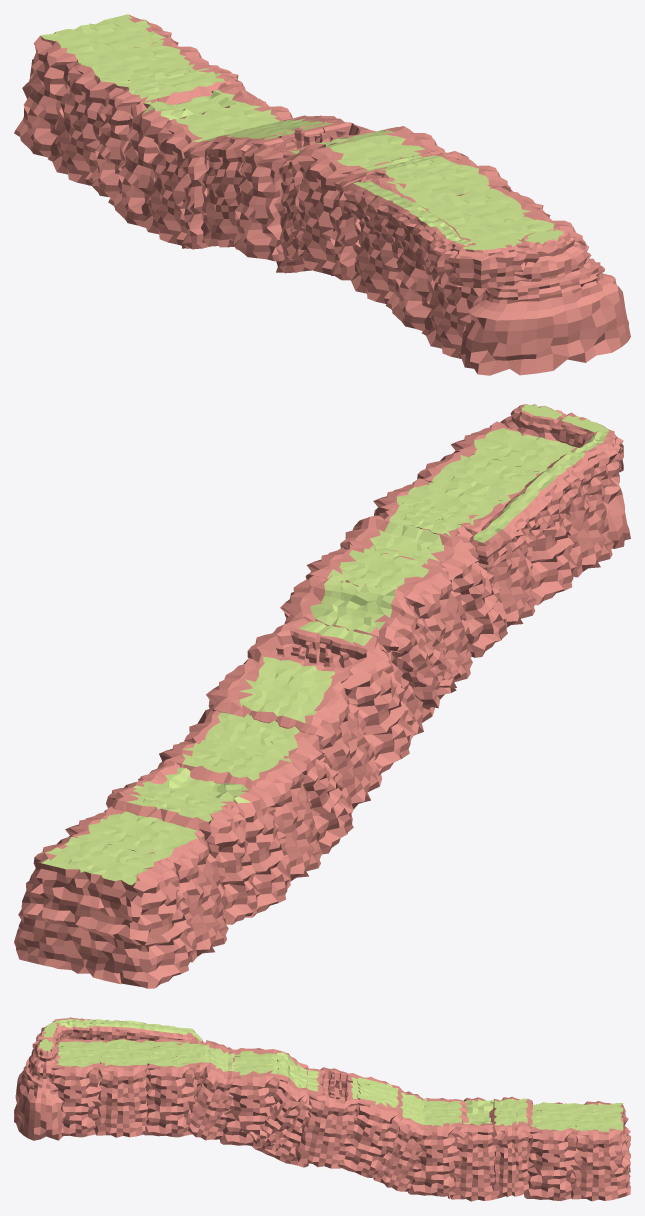
The model's file is level1.fbx.
3 views of the same model, one above another, from view 1: azimuth 30°, elevation 25°; view 2: azimuth 150°, elevation 25°; view 3: azimuth 270°, elevation 25° (orthographic). The views are drawn at different scales.
Parts seen in each view (by area): view 1: Cylinder; view 2: Cylinder; view 3: Cylinder.
Boxes of the visible parts, x1,y1,x2,y2 form: Cylinder: (14,14,630,375); Cylinder: (14,404,630,988); Cylinder: (14,1017,630,1201).
Size of the model in its own units: 395 by 469 by 1917.
